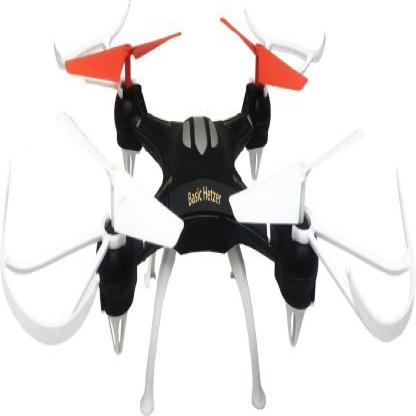drone: (9, 11, 416, 408)
